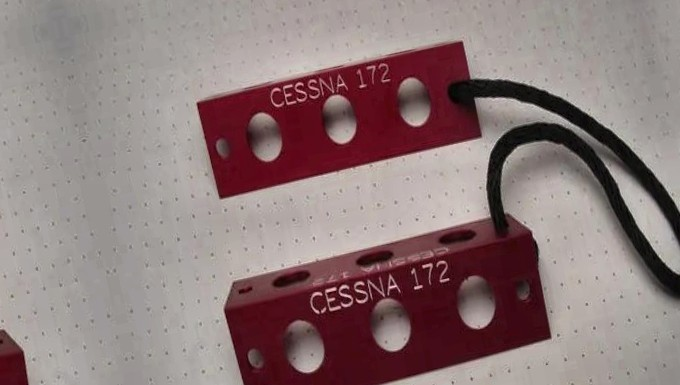chock: (213, 205, 564, 385), (189, 34, 494, 203)
